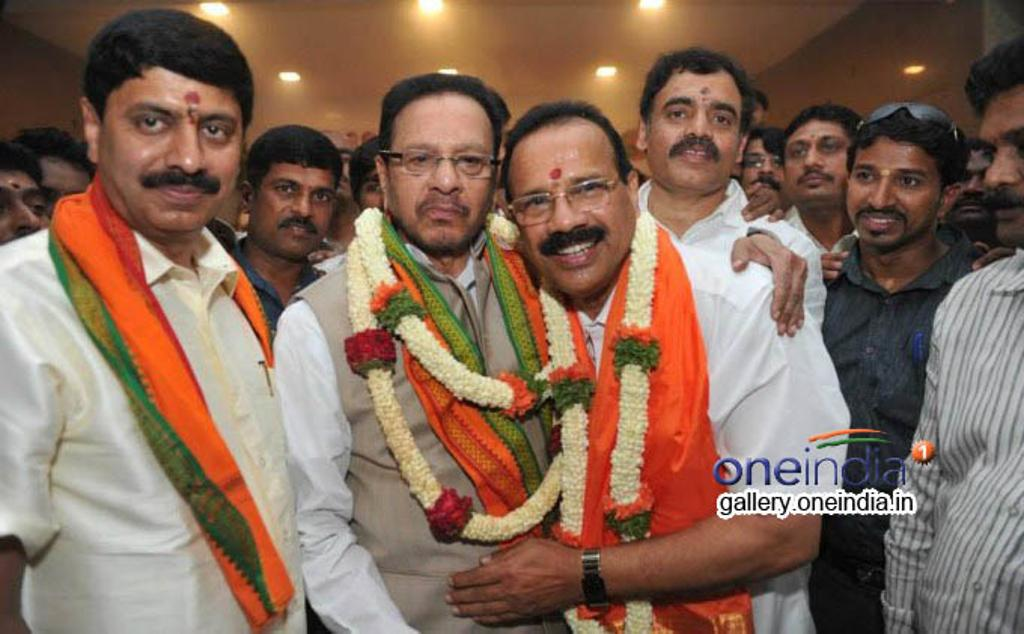face: (102, 75, 241, 226), (509, 143, 629, 290), (389, 112, 495, 244), (649, 78, 741, 186), (847, 147, 938, 245), (254, 167, 334, 255), (977, 112, 1024, 243), (20, 167, 90, 246), (360, 161, 431, 237), (784, 125, 856, 197), (1, 180, 52, 270), (743, 143, 796, 212), (944, 154, 997, 221), (318, 153, 359, 193), (739, 102, 763, 129)
